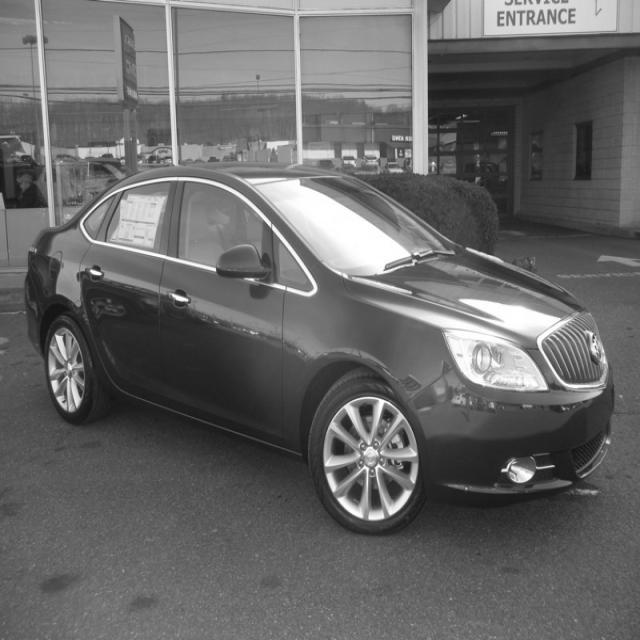car: (23, 161, 614, 534)
